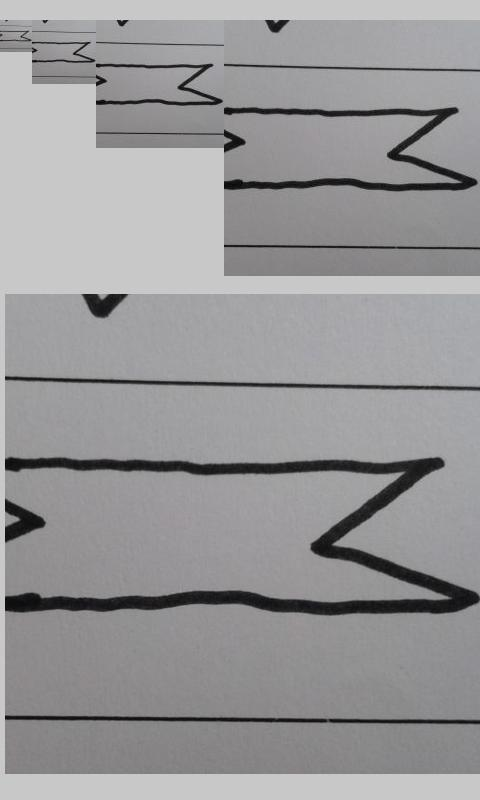edit_text: (4, 452, 480, 618), (225, 106, 477, 190), (97, 62, 222, 106), (33, 41, 94, 63), (1, 30, 32, 42)
